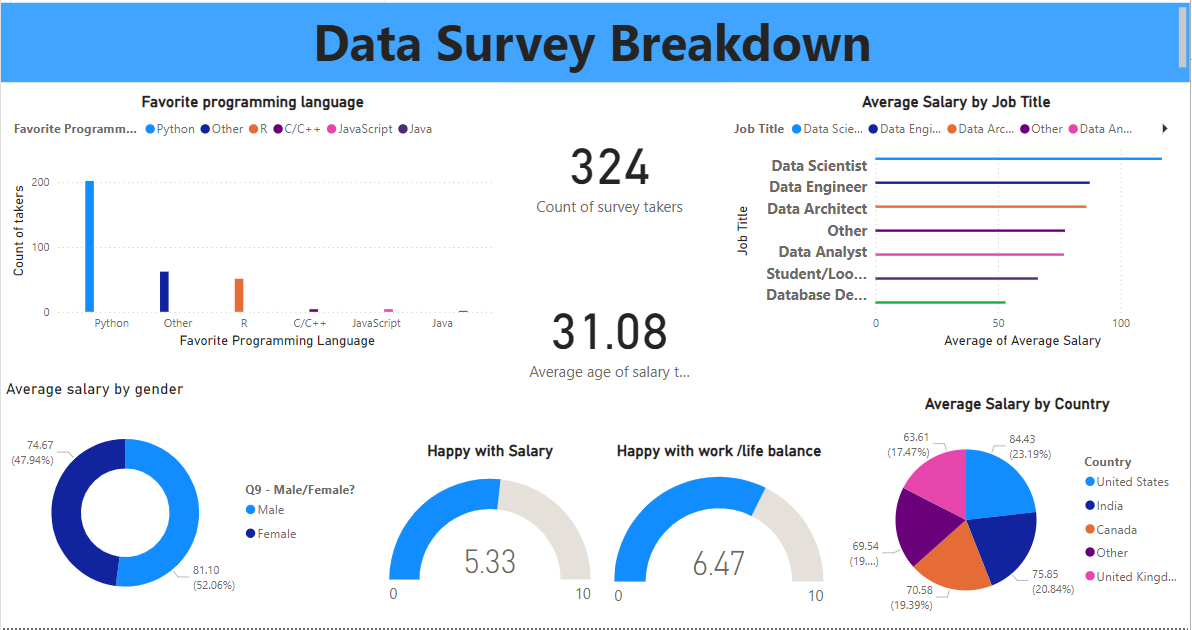

The dashboard page shown, as its layout file describes it:
{"tool":"powerbi","page":{"name":"Page 1","canvas":[1280,720],"ordinal":0},"visuals":[{"type":"textbox","box":[9.6,0,403.4,359.5],"z":0},{"type":"textbox","box":[0,47.1,1280,85.7],"z":1},{"type":"card","fields":{"Values":["Avg(Data Professional Survey.Q10 - Current Age)"]},"box":[561,325.7,188.2,159.3],"z":2},{"type":"card","fields":{"Values":["CountNonNull(Data Professional Survey.Unique ID)"]},"box":[561,148.4,188.2,159.3],"z":3},{"type":"clusteredColumnChart","title":"Favorite programming language","fields":{"Category":["Data Professional Survey.Q5 - Favorite Programming Language.1"],"Series":["Data Professional Survey.Q5 - Favorite Programming Language.1"],"Y":["CountNonNull(Data Professional Survey.Unique ID)"]},"box":[0,132.7,541.7,295.6],"z":4},{"type":"clusteredBarChart","title":"Average Salary by Job Title","fields":{"Y":["Avg(Data Professional Survey.Average Salary)"],"Category":["Data Professional Survey.Q1 - Which Title Best Fits your Current Role?.1"],"Series":["Data Professional Survey.Q1 - Which Title Best Fits your Current Role?.1"]},"box":[778.2,132.7,498.3,295.6],"z":5},{"type":"pieChart","fields":{"Y":["Avg(Data Professional Survey.Average Salary)"],"Category":["Data Professional Survey.Q11 - Which Country do you live in?.1"]},"box":[906,468.1,374,252.1],"z":6},{"type":"gauge","title":"Happy with work /life balance","fields":{"Y":["Avg(Data Professional Survey.Q6 - How Happy are you in your Current Position with the following? (Work/Life Balance))"],"MinValue":["Min(Data Professional Survey.Q6 - How Happy are you in your Current Position with the following? (Work/Life Balance))1"],"MaxValue":["Max(Data Professional Survey.Q6 - How Happy are you in your Current Position with the following? (Work/Life Balance))2"]},"box":[655.1,518.8,235.3,201.5],"z":7},{"type":"gauge","title":"Happy with Salary","fields":{"Y":["Avg(Data Professional Survey.Q6 - How Happy are you in your Current Position with the following? (Salary))"],"MinValue":["Min(Data Professional Survey.Q6 - How Happy are you in your Current Position with the following? (Salary))"],"MaxValue":["Max(Data Professional Survey.Q6 - How Happy are you in your Current Position with the following? (Salary))"]},"box":[412.6,518.8,226.8,201.5],"z":8},{"type":"donutChart","title":"Average salary by gender","fields":{"Category":["Data Professional Survey.Q9 - Male/Female?"],"Y":["Avg(Data Professional Survey.Average Salary)"]},"box":[0,451.2,395.7,269],"z":9}]}

Visuals, with their boxes in screenshot pixels (x1, y1, x2, y2):
textbox: bbox(89, 0, 437, 273)
textbox: bbox(81, 3, 1185, 77)
card - Avg(Data Professional Survey.Q10 - Current Age): bbox(565, 244, 727, 381)
card - CountNonNull(Data Professional Survey.Unique ID): bbox(565, 91, 727, 228)
"Favorite programming language" clusteredColumnChart: bbox(81, 77, 548, 332)
"Average Salary by Job Title" clusteredBarChart: bbox(752, 77, 1182, 332)
pieChart - Avg(Data Professional Survey.Average Salary) x Data Professional Survey.Q11 - Which Country do you live in?.1: bbox(863, 367, 1185, 584)
"Happy with work /life balance" gauge: bbox(646, 411, 849, 584)
"Happy with Salary" gauge: bbox(437, 411, 633, 584)
"Average salary by gender" donutChart: bbox(81, 352, 422, 584)
